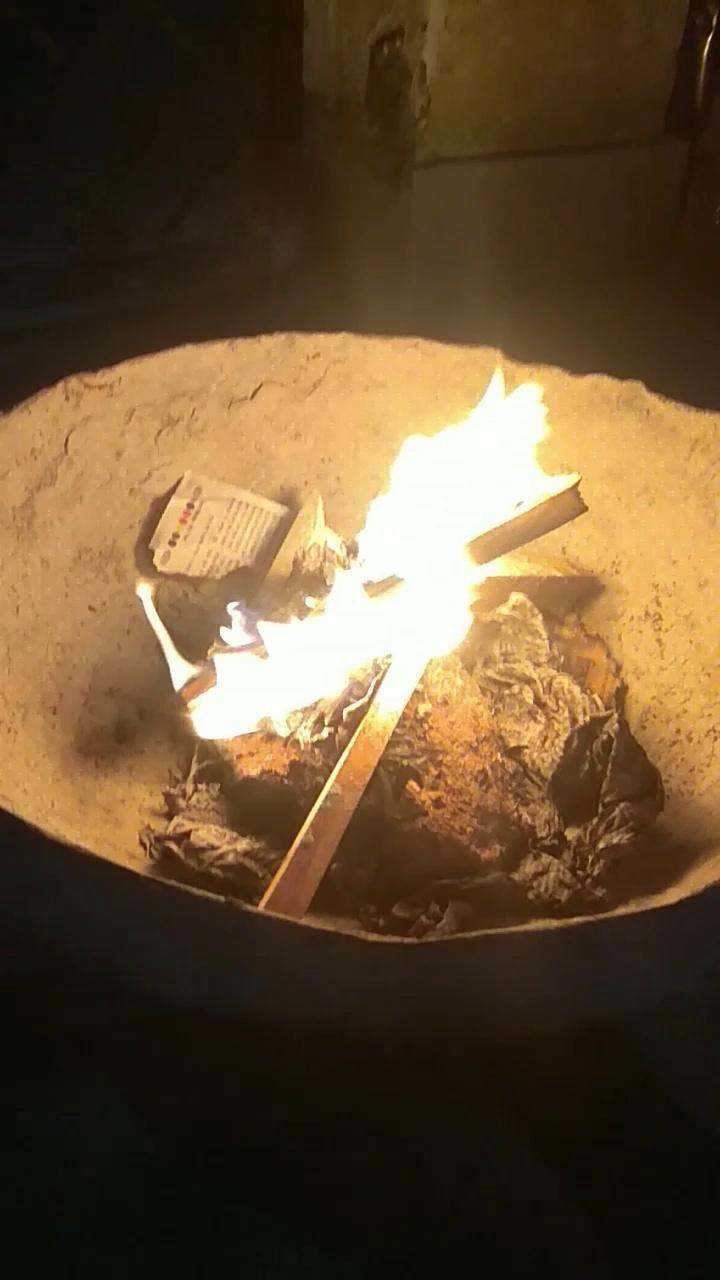fire: (154, 345, 552, 767)
